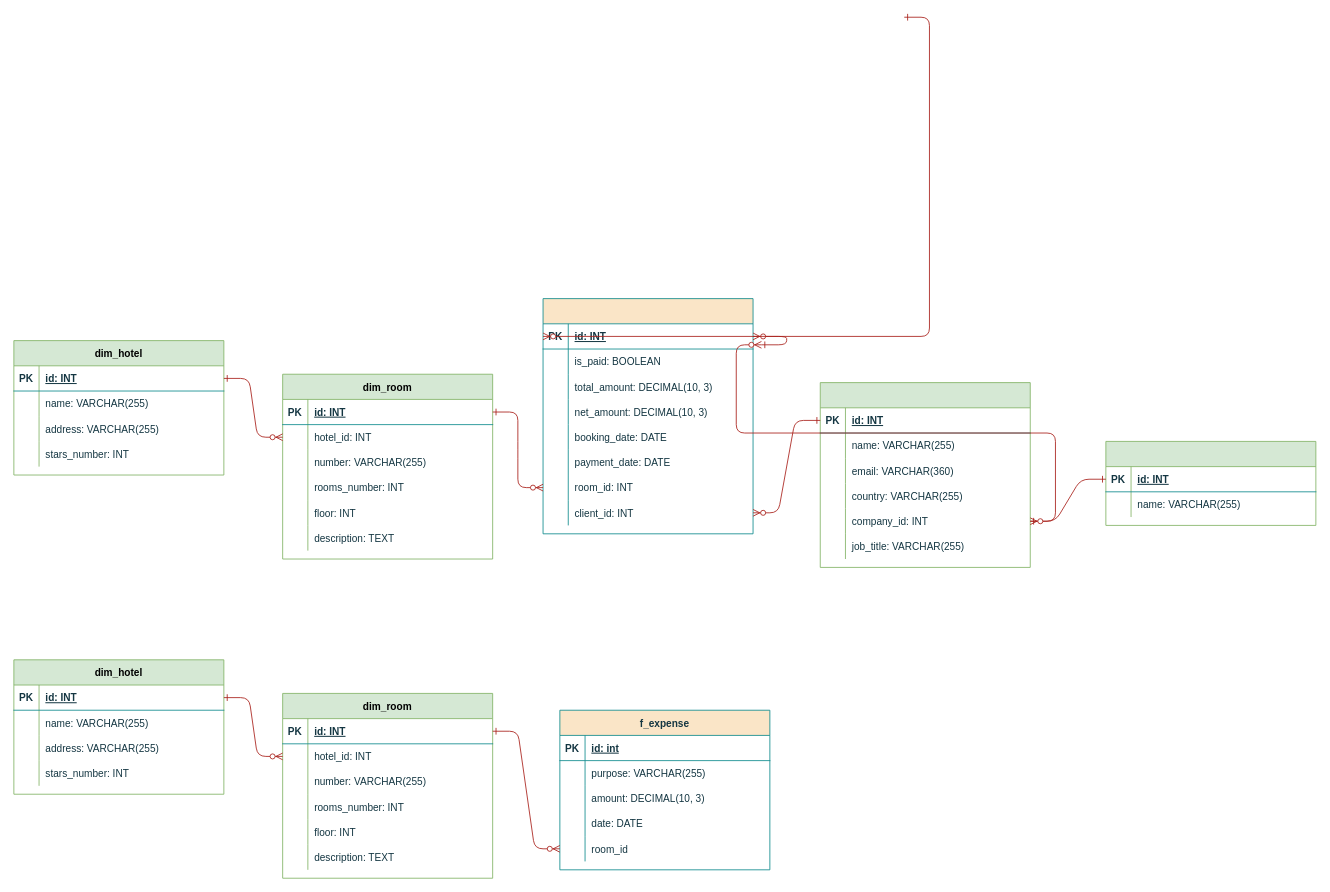
The diagram is 1330 pixels wide and 892 high, and some of its shapes have lost their labels. The shapes that lost their labels are listed below. From the top down, each one's box as (x1, y1, x2, y2) in pixels, then its label:
(542, 298, 753, 534): f_booking
(819, 382, 1030, 567): dim_client
(1105, 441, 1316, 525): dim_company
